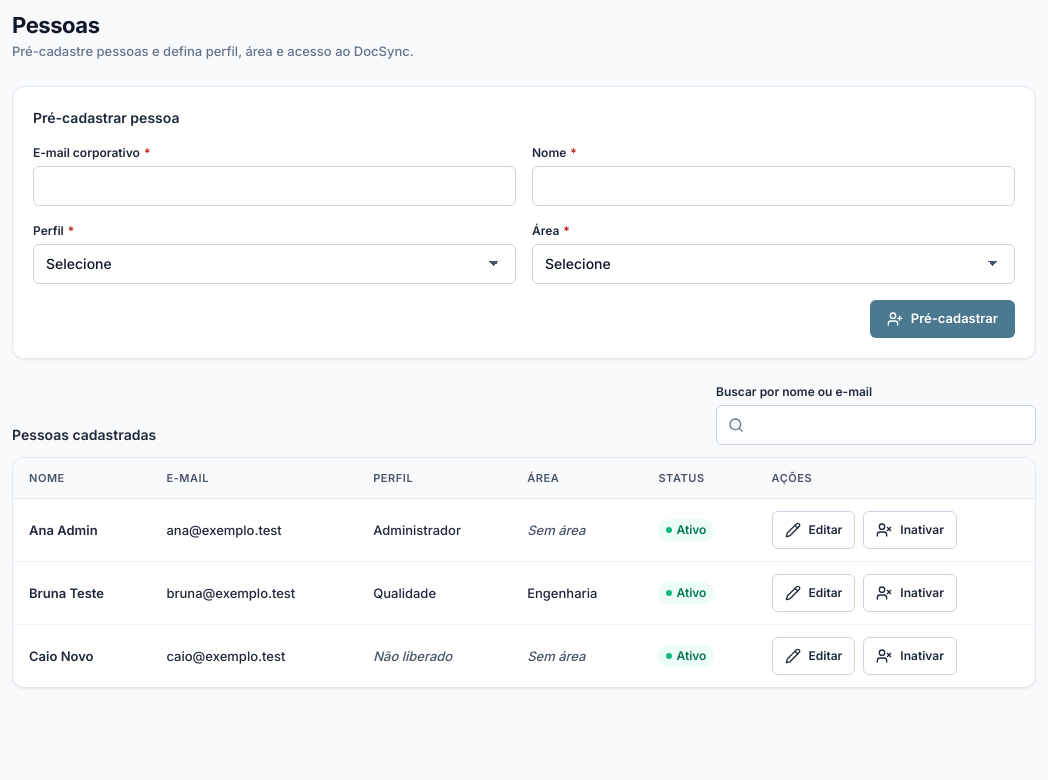
Test: TelaPessoas › pré-cadastra, mostra toast e inclui a pessoa na lista
Check: the text "Bruna Teste" is shown, box [13,562,150,625]
In the field labelled "E-mail corporativo*": (274, 186) [33,166,516,206], type "dora@exemplo.test"
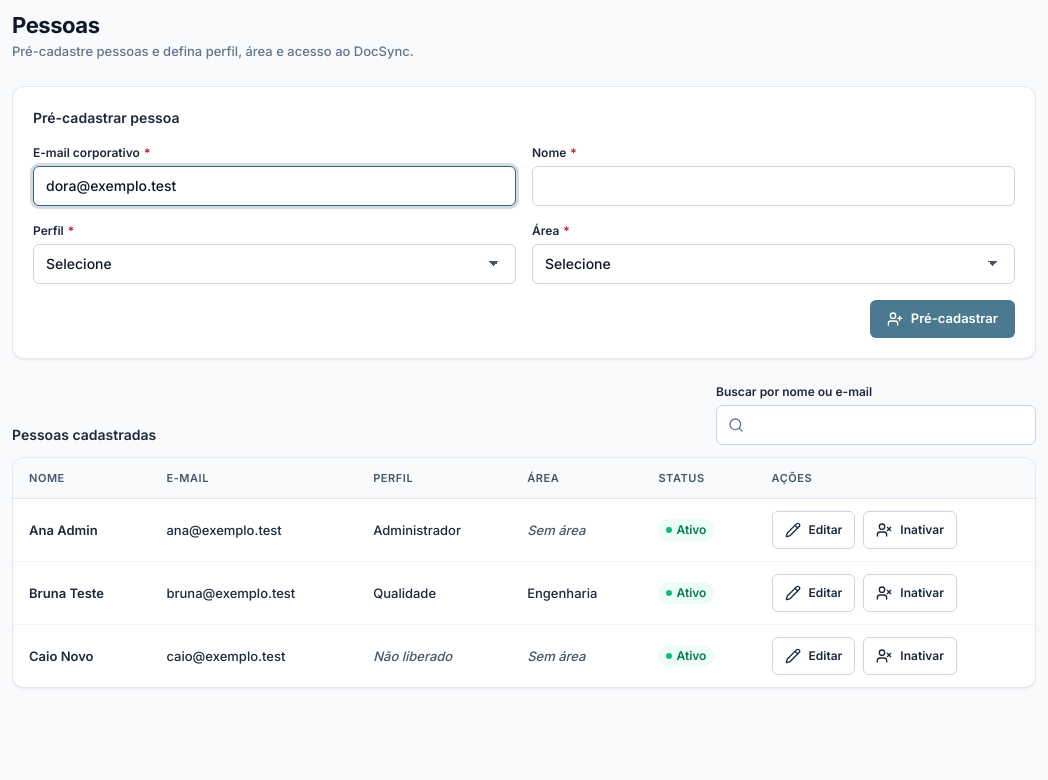
In the field labelled "Nome*": (774, 186) [532,166,1015,206], type "Dora Silva"
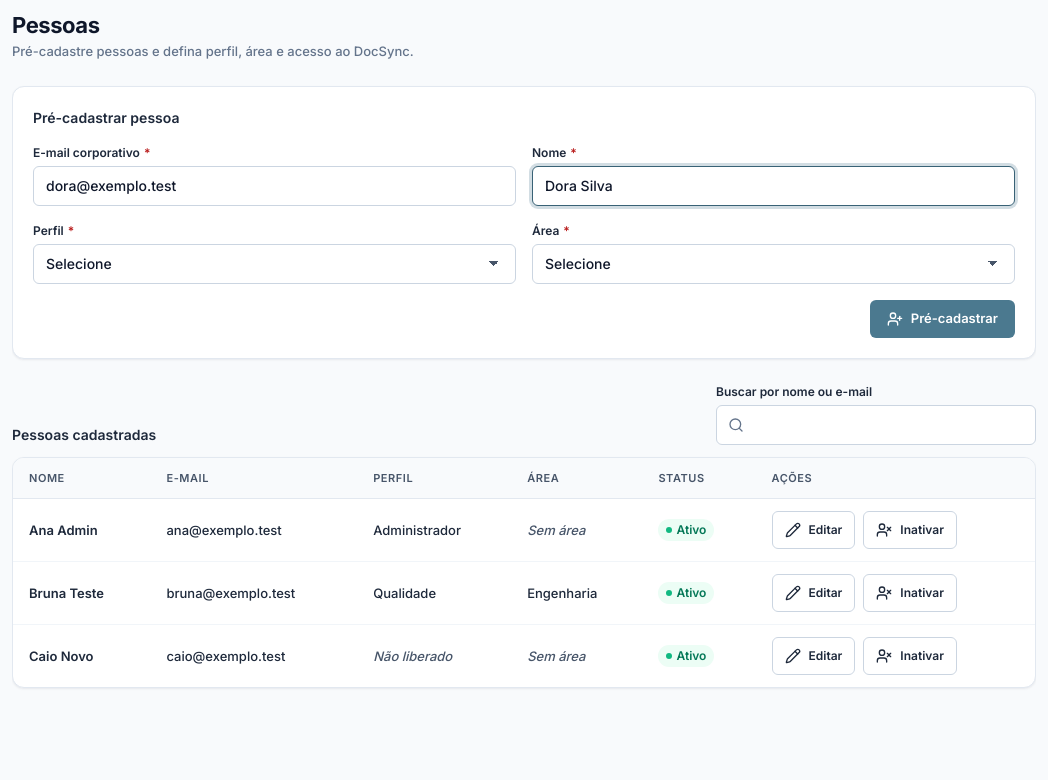
Select "Solicitante" in the dropdown labelled "Perfil*": (274, 264) [33,244,516,284]
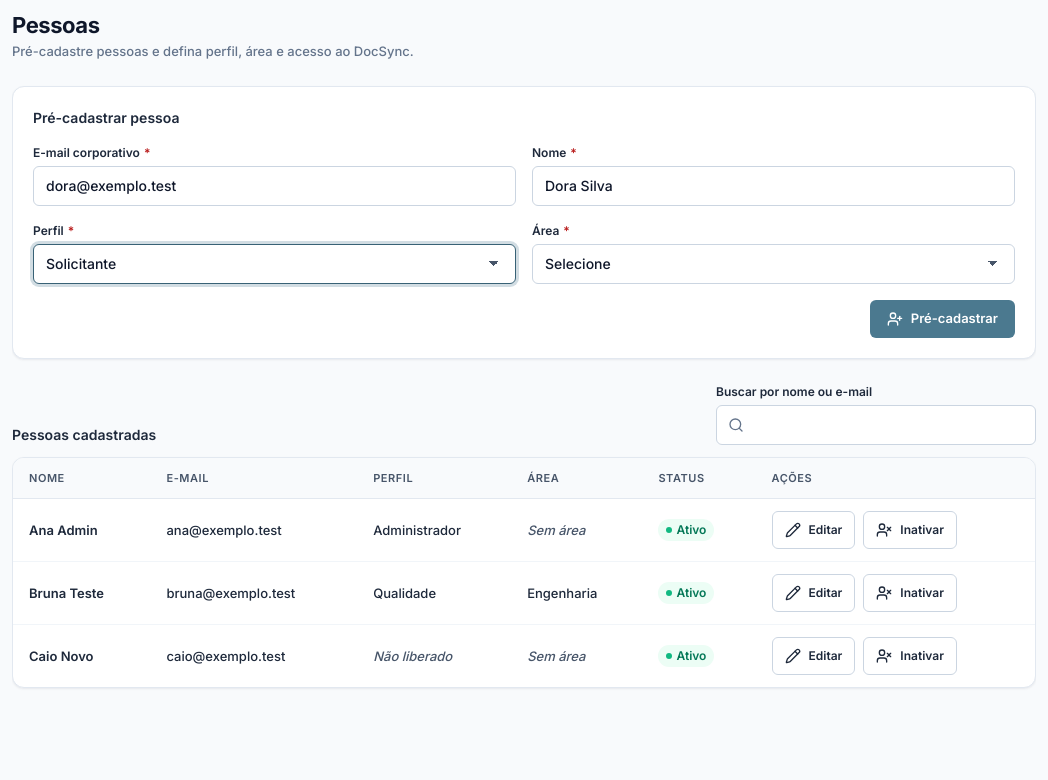
Select "Engenharia" in the dropdown labelled "Área*": (774, 264) [532,244,1015,284]
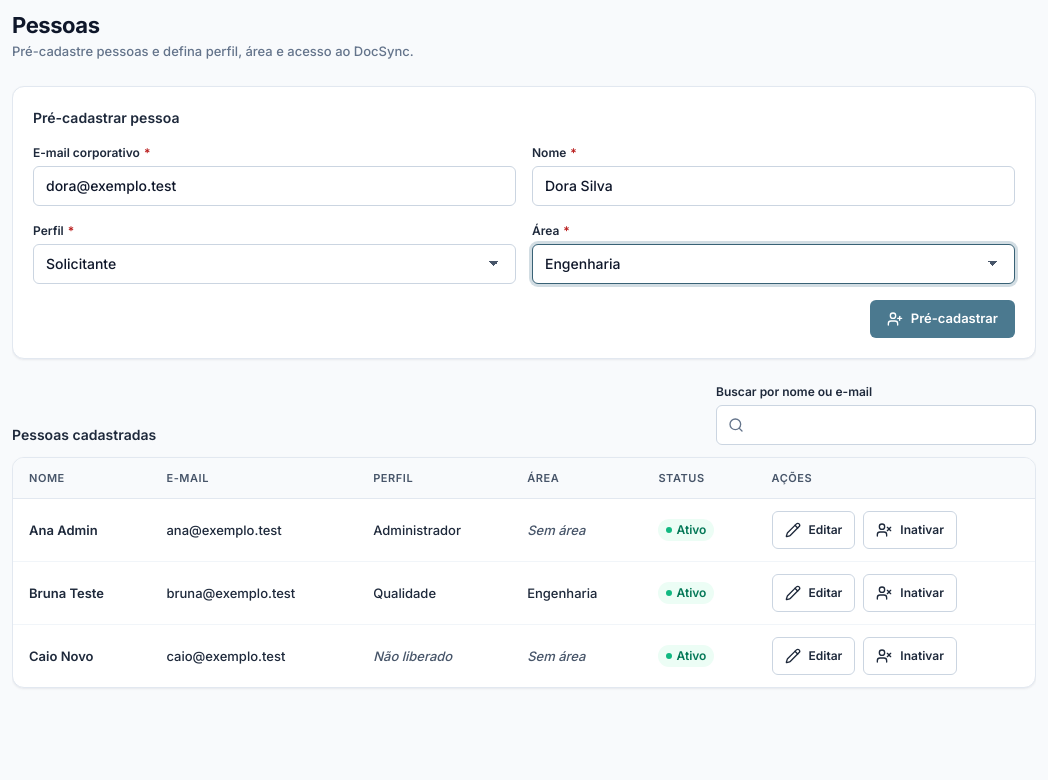
Click the button "Pré-cadastrar": click(942, 319) [870,300,1015,338]
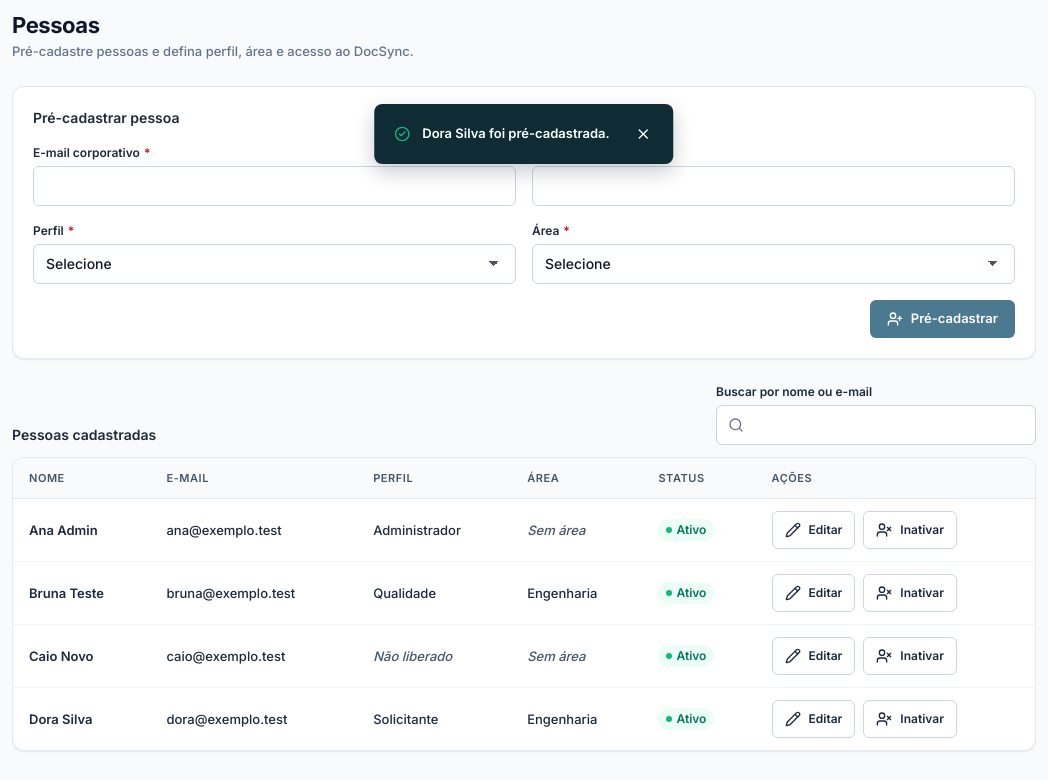
Check: the text "Dora Silva foi pré-cadastrada." is shown, box [422,124,610,144]
Check: the cell "Dora Silva" is shown, box [13,688,150,750]
